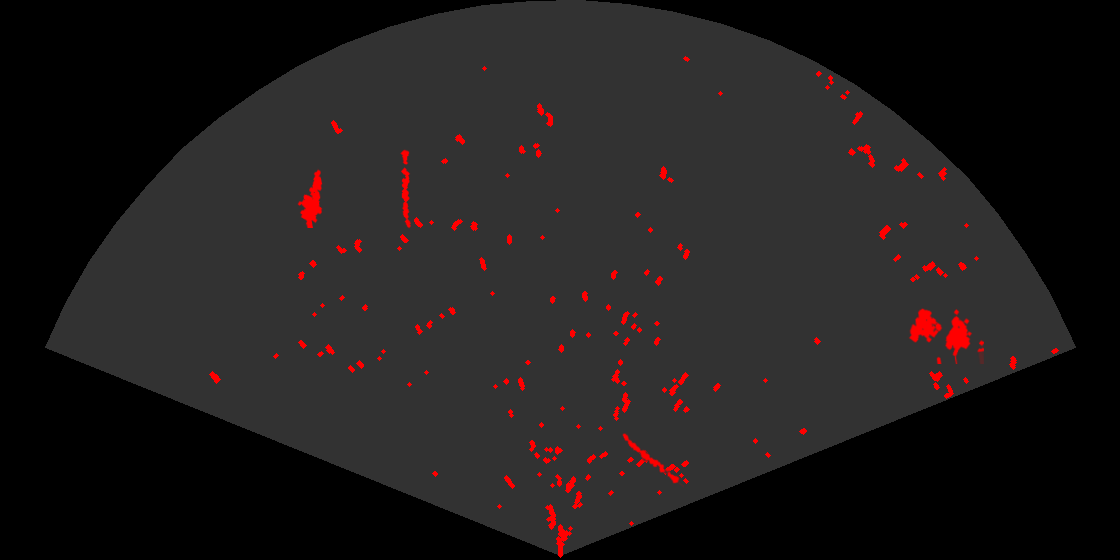cage: (907, 307, 984, 364)
chain: (621, 432, 684, 489), (399, 149, 412, 229)
frogman: (296, 168, 324, 228)
